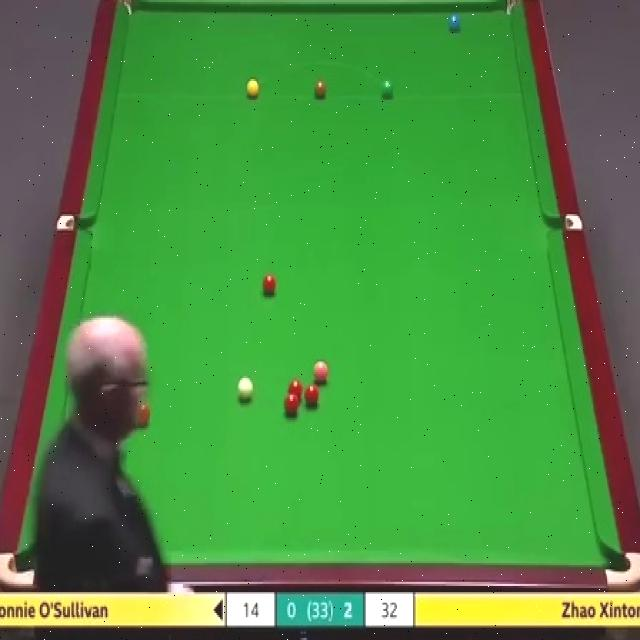blue-ball: (447, 8, 462, 34)
brown-ball: (314, 80, 328, 101)
green-ball: (380, 80, 395, 102)
pink-ball: (310, 360, 329, 386)
red-ball: (134, 402, 150, 430), (283, 393, 300, 418), (261, 272, 278, 297), (303, 383, 320, 407), (286, 379, 304, 401)
white-ball: (235, 376, 255, 408)
yellow-ball: (246, 78, 260, 100)
